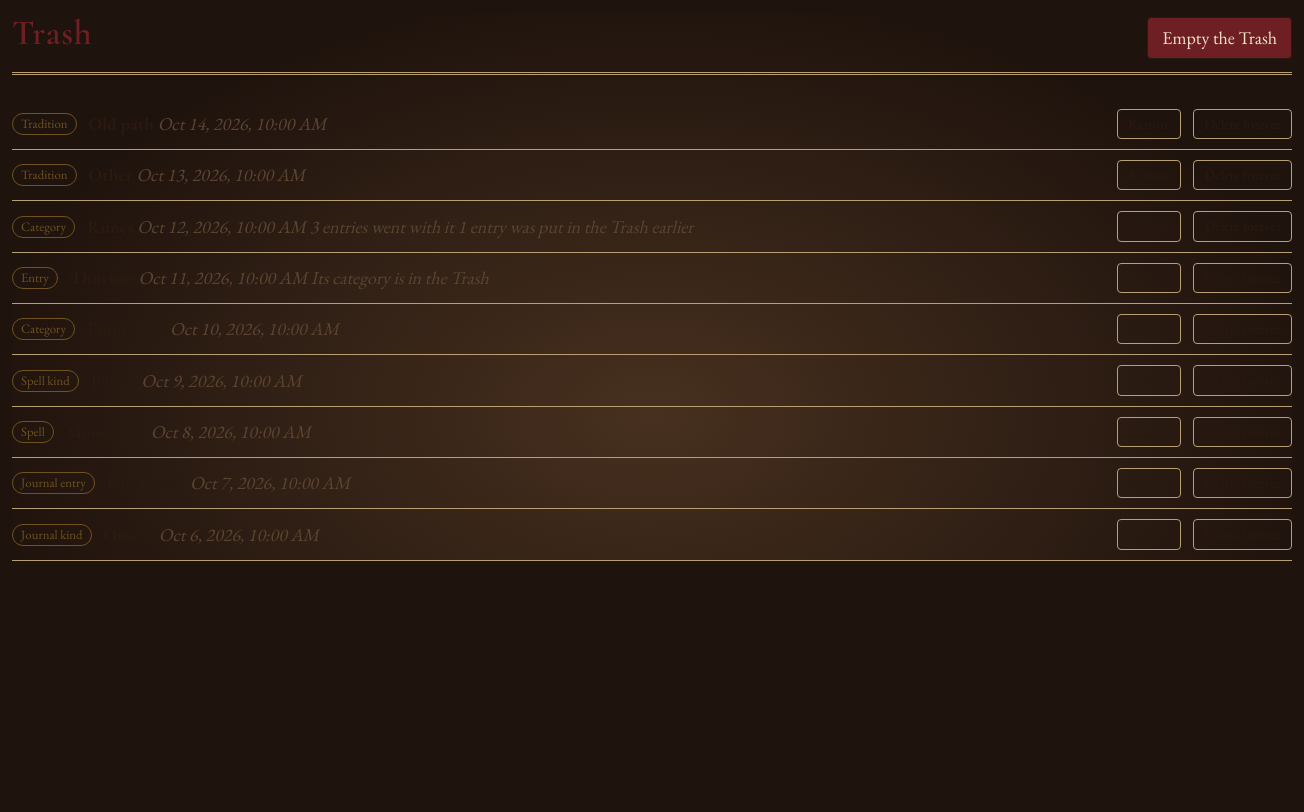
Scenario: Trash › restores one
The width and height of the screenshot is (1304, 812).
Click the button "Restore" in the row of "Old path".
click(1149, 124)  # box [1117,109,1181,139]
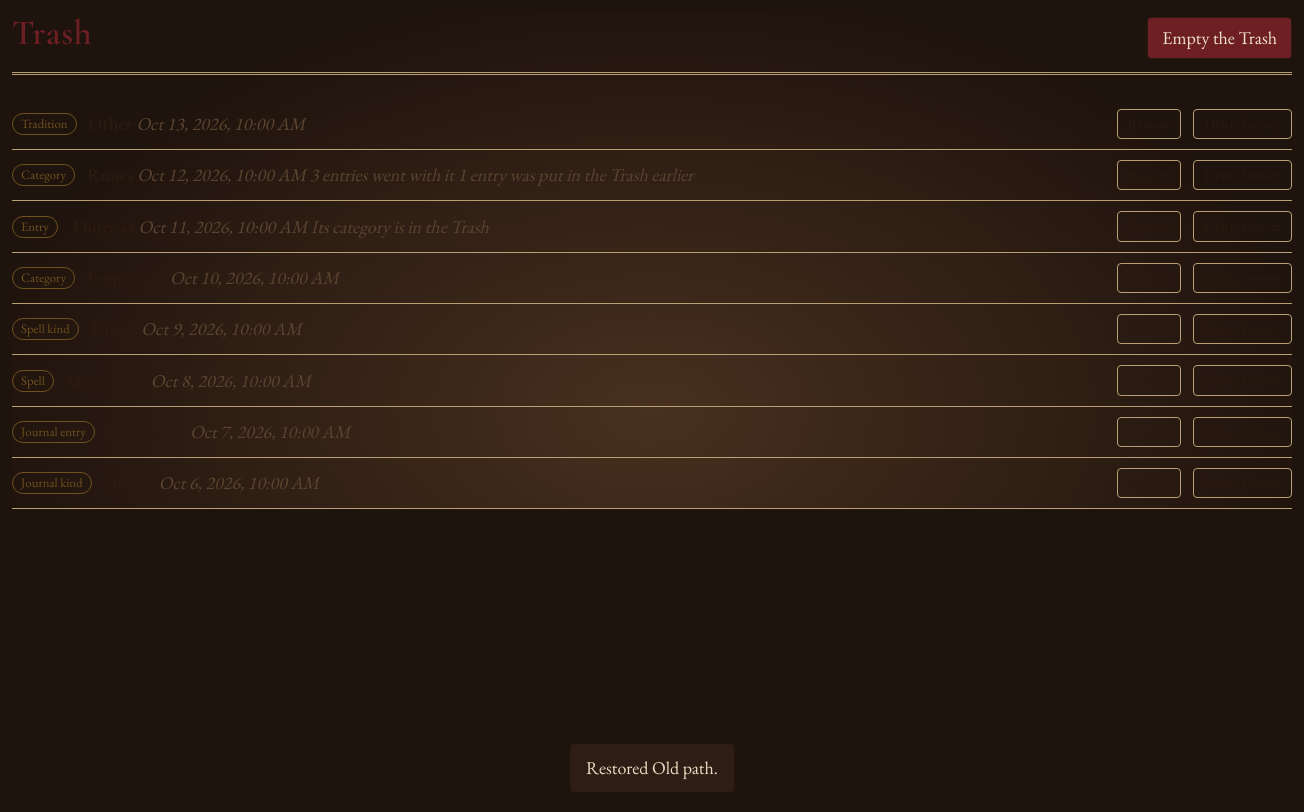
Now the text "Restored Old path." is shown, box [586,754,718,782]
